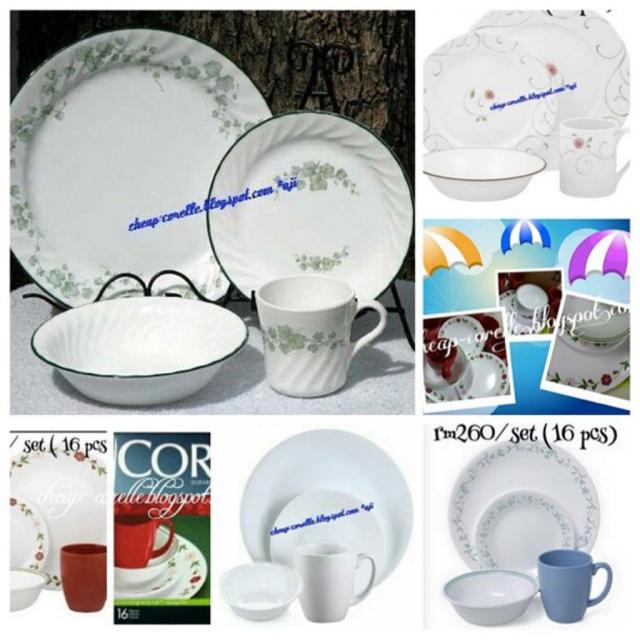non-organic waste: (256, 276, 384, 398), (297, 540, 374, 624), (556, 117, 632, 199), (536, 550, 615, 624), (113, 508, 173, 570), (59, 543, 104, 613), (426, 338, 458, 378), (512, 283, 548, 318)
